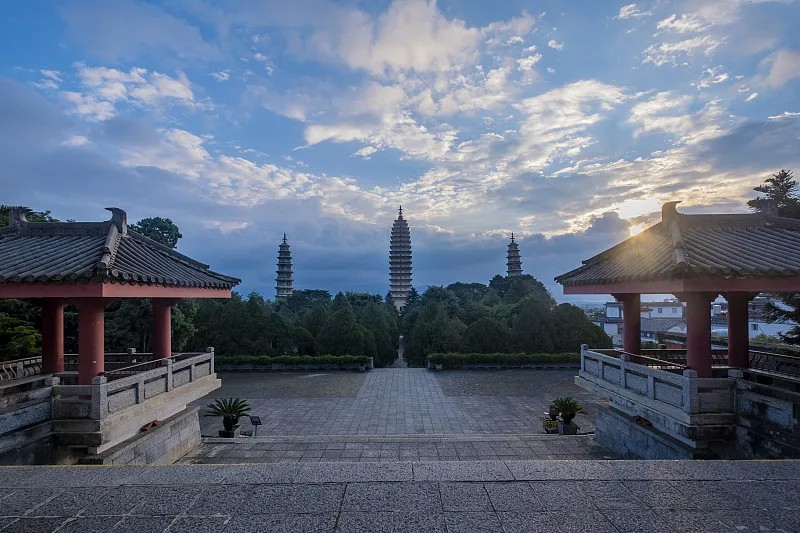ThreePagoda: (389, 205, 413, 309)
